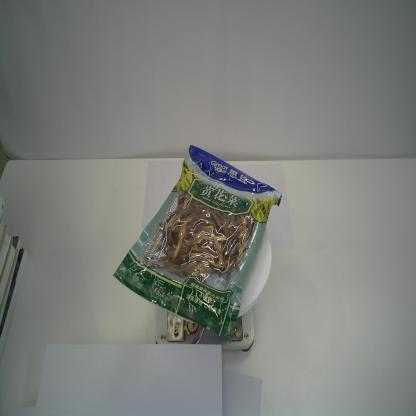Dried Food: (111, 144, 282, 344)
